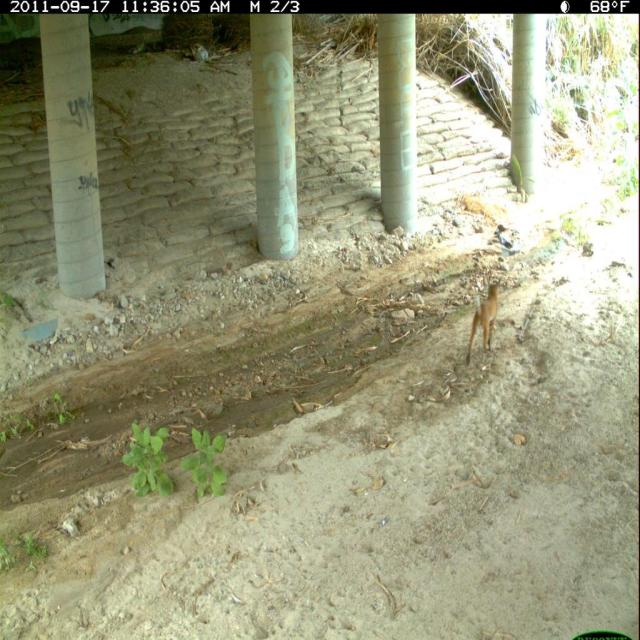bobcat: (461, 276, 506, 371)
